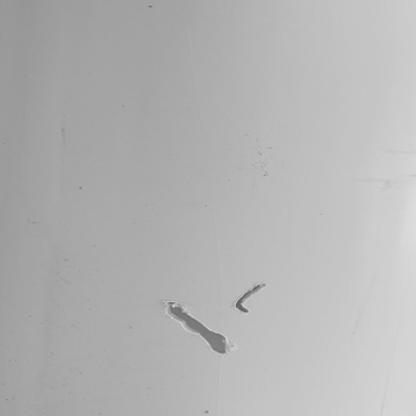fengxi: (163, 302, 229, 357), (231, 280, 268, 312)
